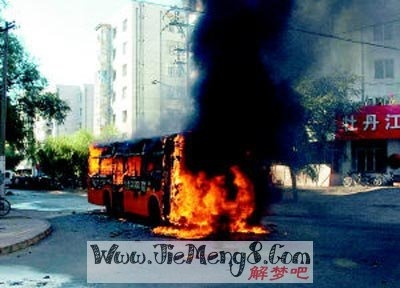fire: (156, 136, 266, 239), (86, 142, 141, 182)
